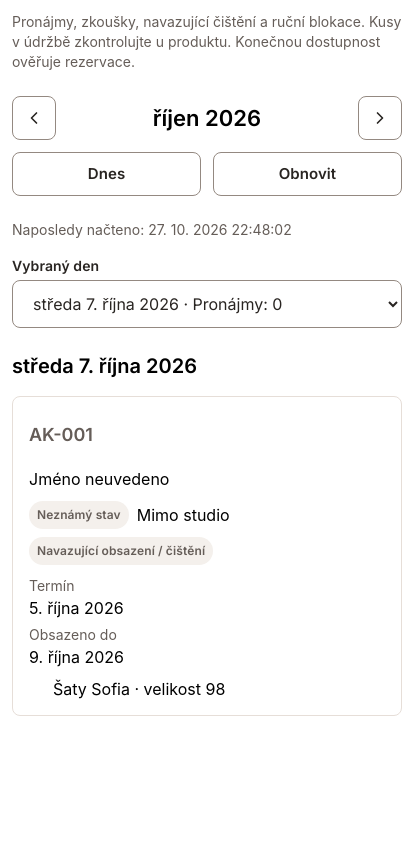
Test: day selection changes only agenda, counts distinguish rental/cleaning and unknown status survives
This screenshot has width=414, height=856.
Check: the link "AK-001" is shown, box [29,424,93,445]
Check: the text "Neznámý stav" is shown, box [37,507,121,523]
Select "pondělí 5. října 2026 · Pronájmy: 1" in the dropdown labelled "Vybraný den" at [207, 304], box [12,280,402,328]
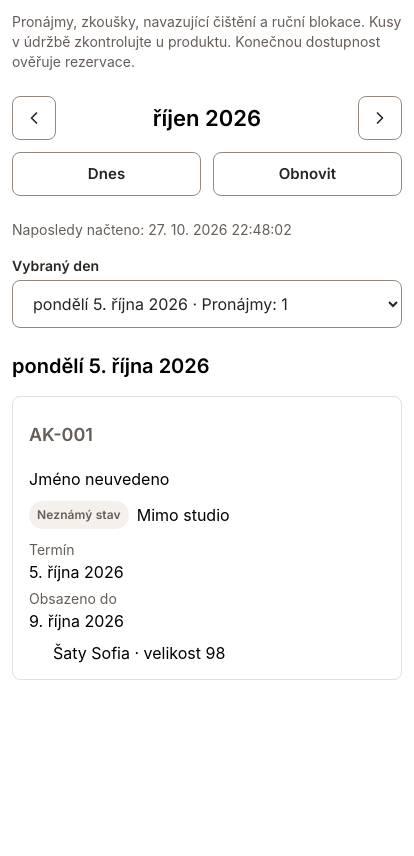
Check: the text "Navazující obsazení / čištění" is gone
Select "sobota 10. října 2026 · Pronájmy: 0" in the dropdown labelled "Vybraný den" at [207, 304], box [12,280,402,328]
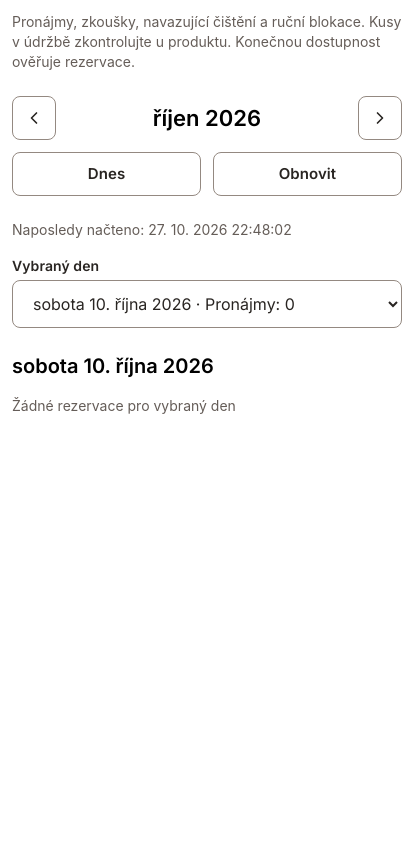
Check: the text "Žádné rezervace pro vybraný den" is shown, box [12,397,236,414]
